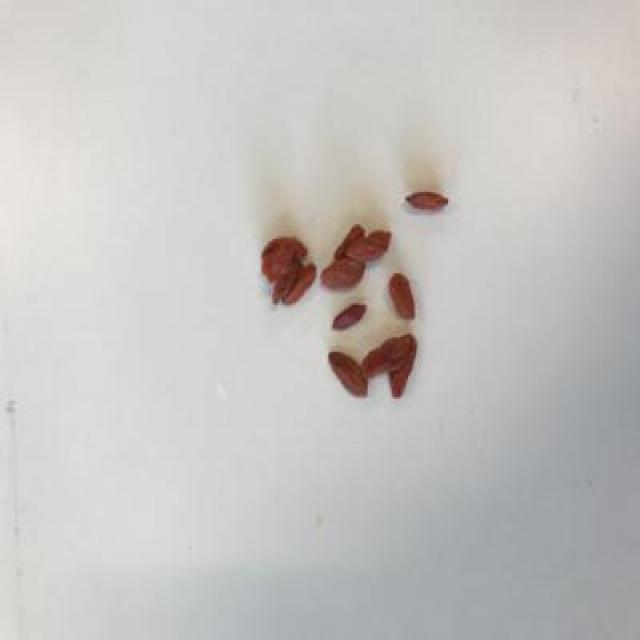compost: (250, 166, 484, 420)
